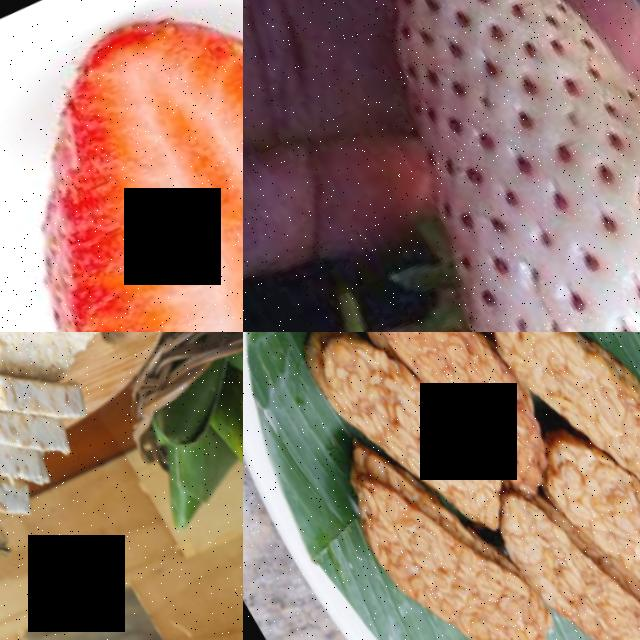strawberry: (258, 0, 640, 332), (0, 0, 243, 332)
tempeh: (371, 332, 550, 485), (294, 332, 458, 491), (391, 489, 550, 640), (524, 491, 640, 640), (573, 446, 640, 632), (0, 332, 107, 383)
